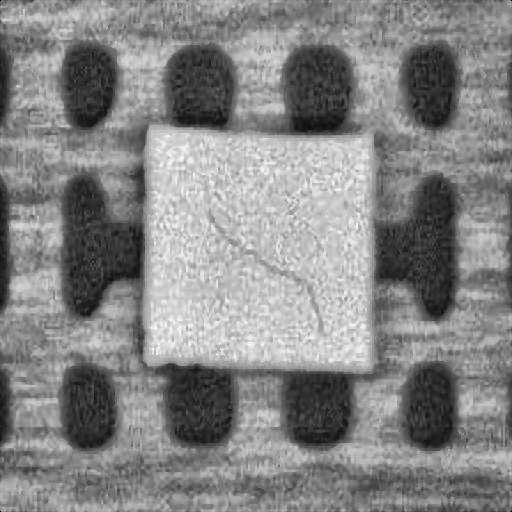DIE_CRACK: (204, 207, 320, 332)
